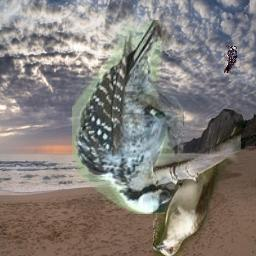Cuckoo: (153, 104, 241, 256)
Woodpecker: (72, 20, 184, 214), (224, 45, 237, 73)
